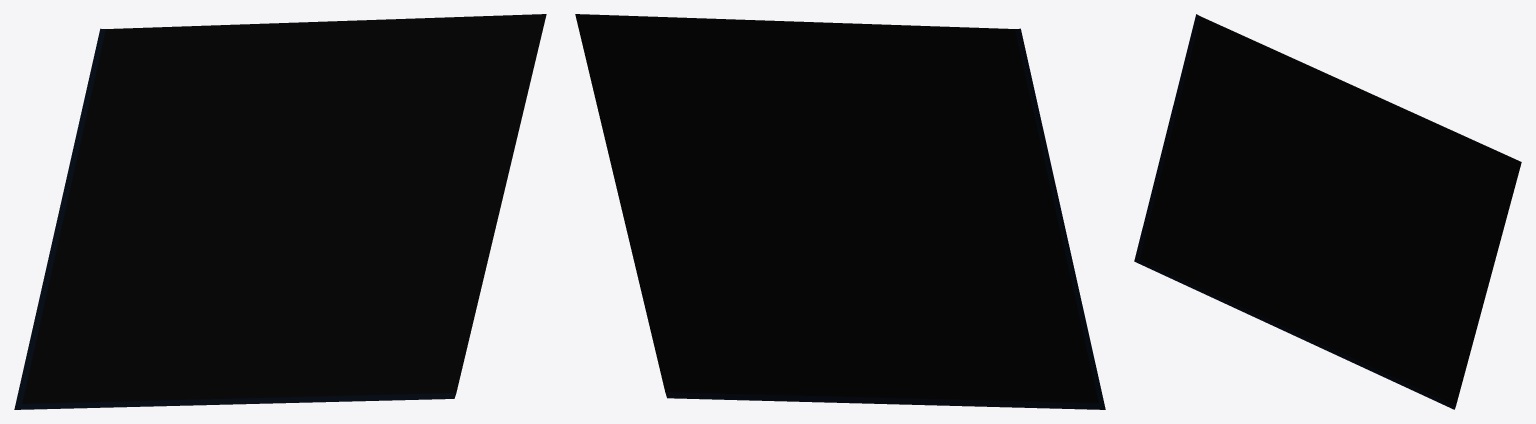
The model's file is basePhotosPicG.glb.
3 renders of one model, left to right at view 1: azimuth 30°, elevation 25°; view 2: azimuth 150°, elevation 25°; view 3: azimuth 330°, elevation 25°, orthographic. The views are drawn at different scales.
Visible parts, largest first — view 1: basePhotosPicG; view 2: basePhotosPicG; view 3: basePhotosPicG.
Boxes of the visible parts, x1=… form: basePhotosPicG: x1=14, y1=14, x2=546, y2=409; basePhotosPicG: x1=575, y1=14, x2=1105, y2=409; basePhotosPicG: x1=1134, y1=14, x2=1521, y2=409.
Size of the model in its own units: 0.5659 by 0.4641 by 0.000811.
